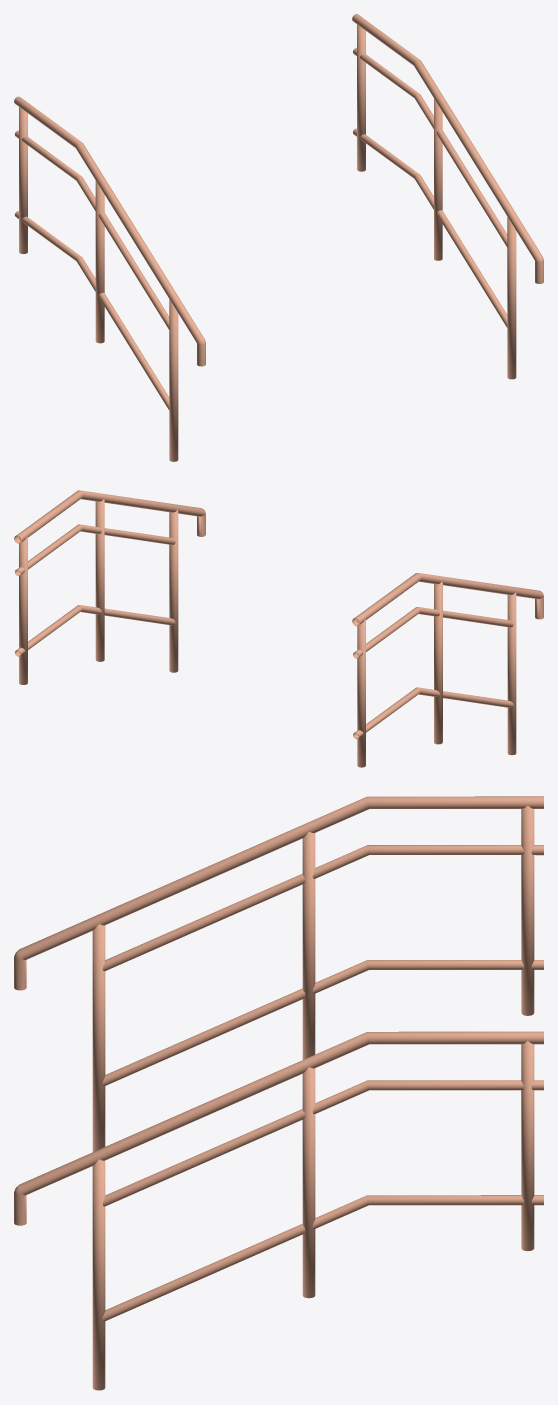
The model's file is Stairs-entrance-Kostylyova-46-v1-001-sketchfab.fbx.
The picture shows the model from 3 angles, top to bottom: view 1: azimuth 30°, elevation 25°; view 2: azimuth 150°, elevation 25°; view 3: azimuth 270°, elevation 25°; orthographic projection. The views are drawn at different scales.
Visible parts, largest first — view 1: Cube.012, Cube.015, Cube.013, Cube.014, Cube.016, Cube.017, Cylinder.005, Cylinder.002, Cylinder.001, Cylinder.004, Cylinder.003, Cylinder; view 2: Cube.012, Cube.015, Cylinder.005, Cylinder.002, Cylinder.004, Cylinder.001, Cube.017, Cube.016, Cube.013, Cube.014, Cylinder, Cylinder.003; view 3: Cube.015, Cube.012, Cube.016, Cube.017, Cube.013, Cube.014, Cylinder.005, Cylinder.004, Cylinder.002, Cylinder.001, Cylinder.003, Cylinder.
Boxes of the visible parts, box(x1,y1,x2,y2) form: Cube.012: box(14, 96, 205, 366); Cube.015: box(352, 14, 543, 283); Cube.013: box(15, 130, 169, 329); Cube.014: box(15, 211, 169, 410); Cube.016: box(353, 48, 507, 247); Cube.017: box(353, 128, 507, 327); Cylinder.005: box(507, 216, 516, 379); Cylinder.002: box(169, 299, 178, 461); Cylinder.001: box(95, 180, 104, 343); Cylinder.004: box(434, 98, 442, 260); Cylinder.003: box(357, 23, 365, 171); Cylinder: box(19, 106, 27, 253); Cube.012: box(352, 573, 543, 626); Cube.015: box(14, 490, 205, 543); Cylinder.005: box(169, 510, 178, 672); Cylinder.002: box(507, 592, 516, 755); Cylinder.004: box(95, 499, 104, 661); Cylinder.001: box(434, 581, 442, 744); Cube.017: box(14, 605, 175, 656); Cube.016: box(15, 524, 175, 575); Cube.013: box(353, 607, 513, 658); Cube.014: box(353, 687, 513, 739); Cylinder: box(357, 619, 365, 767); Cylinder.003: box(19, 536, 27, 684); Cube.015: box(14, 1031, 543, 1225); Cube.012: box(14, 796, 543, 990); Cube.016: box(102, 1080, 543, 1206); Cube.017: box(102, 1195, 543, 1321); Cube.013: box(102, 845, 543, 971); Cube.014: box(102, 960, 543, 1085); Cylinder.005: box(92, 1159, 105, 1390); Cylinder.004: box(302, 1067, 315, 1298); Cylinder.002: box(92, 924, 105, 1151); Cylinder.001: box(302, 832, 315, 1059); Cylinder.003: box(521, 1041, 534, 1251); Cylinder: box(521, 805, 534, 1015).
Bounding box in the file's own units: 179 × 123 × 167.
